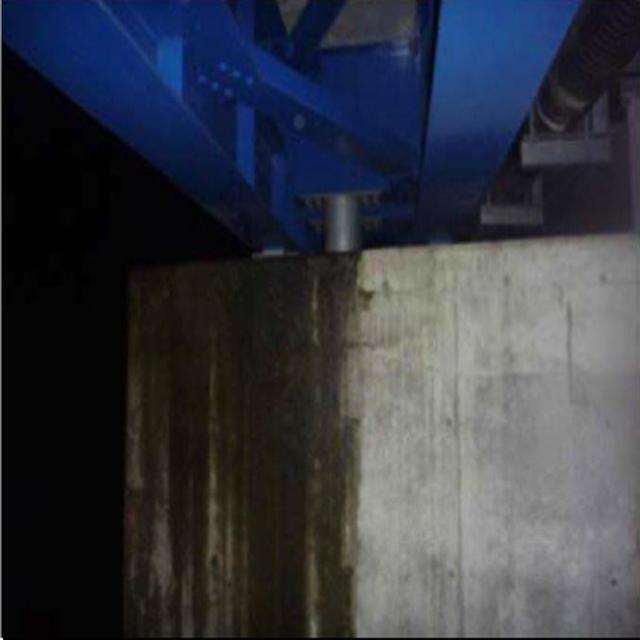leakage: (121, 236, 370, 638)
